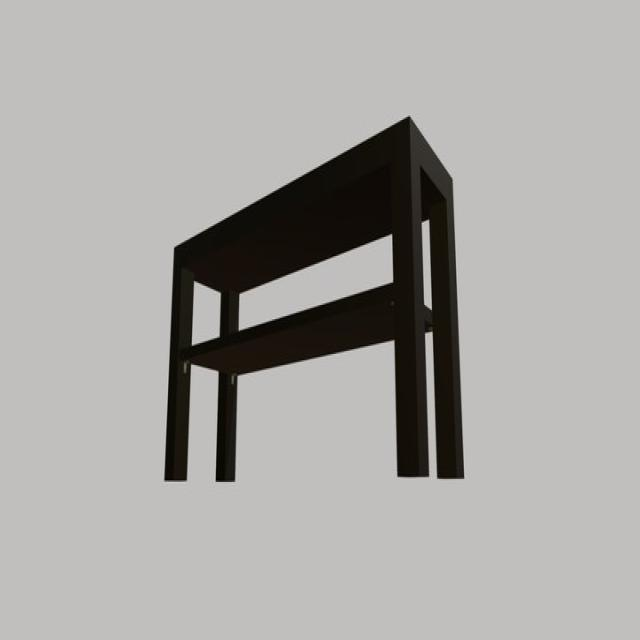table: (163, 111, 467, 481)
